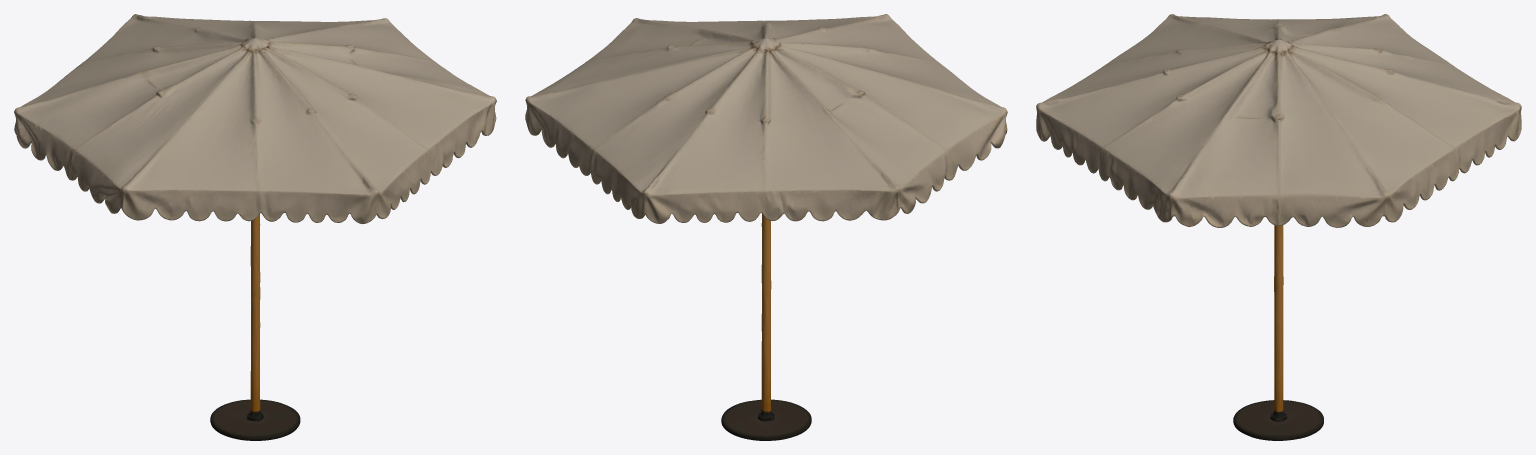
The model's file is parasol.glb.
3 renders of one model, left to right at view 1: azimuth 30°, elevation 25°; view 2: azimuth 150°, elevation 25°; view 3: azimuth 270°, elevation 25°, orthographic.
Visible parts, largest first — view 1: tripo_node_c5fddceb-880e-443e-9858-cbbeee4b30f0; view 2: tripo_node_c5fddceb-880e-443e-9858-cbbeee4b30f0; view 3: tripo_node_c5fddceb-880e-443e-9858-cbbeee4b30f0.
Boxes of the visible parts, x1,y1,x2,y2 form: tripo_node_c5fddceb-880e-443e-9858-cbbeee4b30f0: (14, 14, 496, 440); tripo_node_c5fddceb-880e-443e-9858-cbbeee4b30f0: (525, 14, 1007, 440); tripo_node_c5fddceb-880e-443e-9858-cbbeee4b30f0: (1036, 14, 1521, 440).
Size of the model in its own units: 2.18 by 2.1 by 2.41.
1 material, 1 textured.
